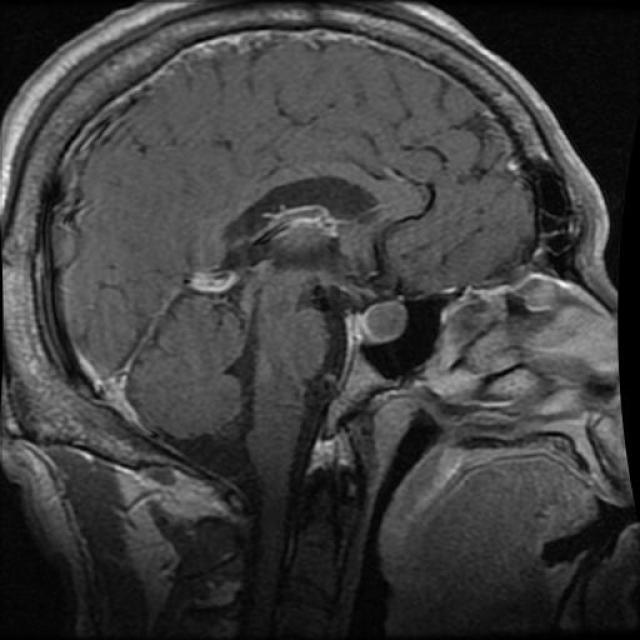pituitary: (338, 270, 418, 356)
